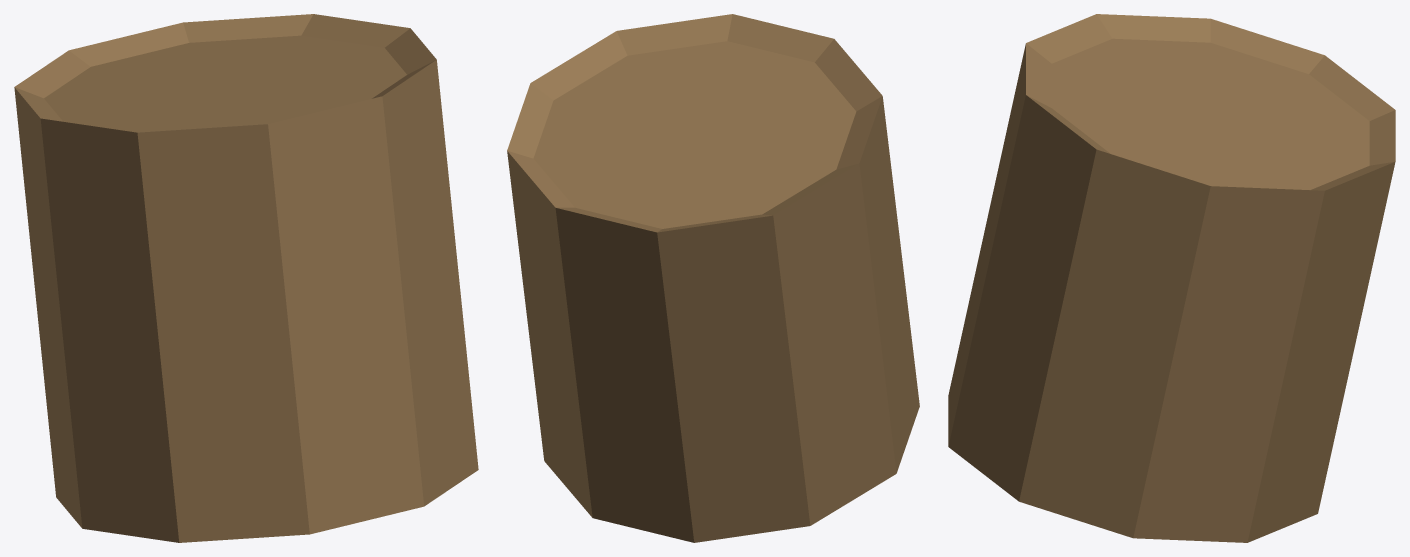
The picture shows the model from 3 angles, left to right: view 1: azimuth 30°, elevation 25°; view 2: azimuth 150°, elevation 25°; view 3: azimuth 270°, elevation 25°; orthographic projection. The views are drawn at different scales.
Parts seen in each view (by area): view 1: polySurface282; view 2: polySurface282; view 3: polySurface282.
Part boxes in pixels (x1=…): polySurface282: x1=14, y1=14, x2=478, y2=542; polySurface282: x1=507, y1=14, x2=919, y2=542; polySurface282: x1=948, y1=14, x2=1395, y2=542.
Size of the model in its own units: 1.15 by 1.35 by 1.3.
